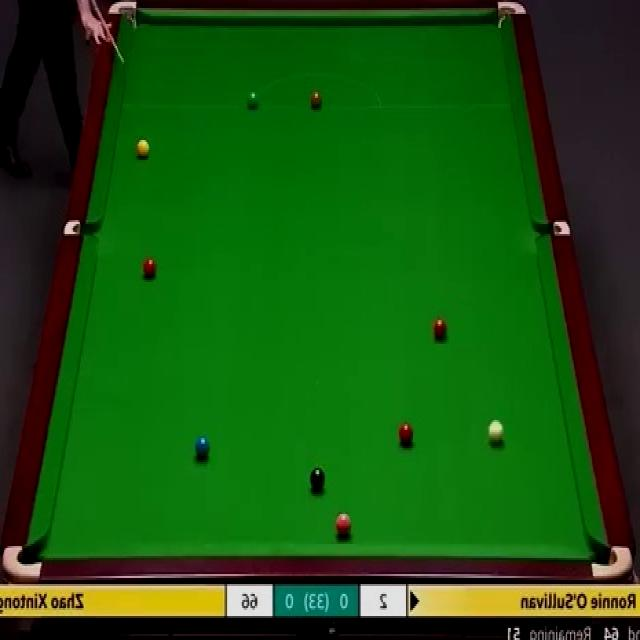pocket: (0, 542, 43, 584), (591, 545, 633, 580), (490, 2, 524, 36), (110, 0, 141, 32), (64, 218, 101, 240), (535, 220, 573, 235)
